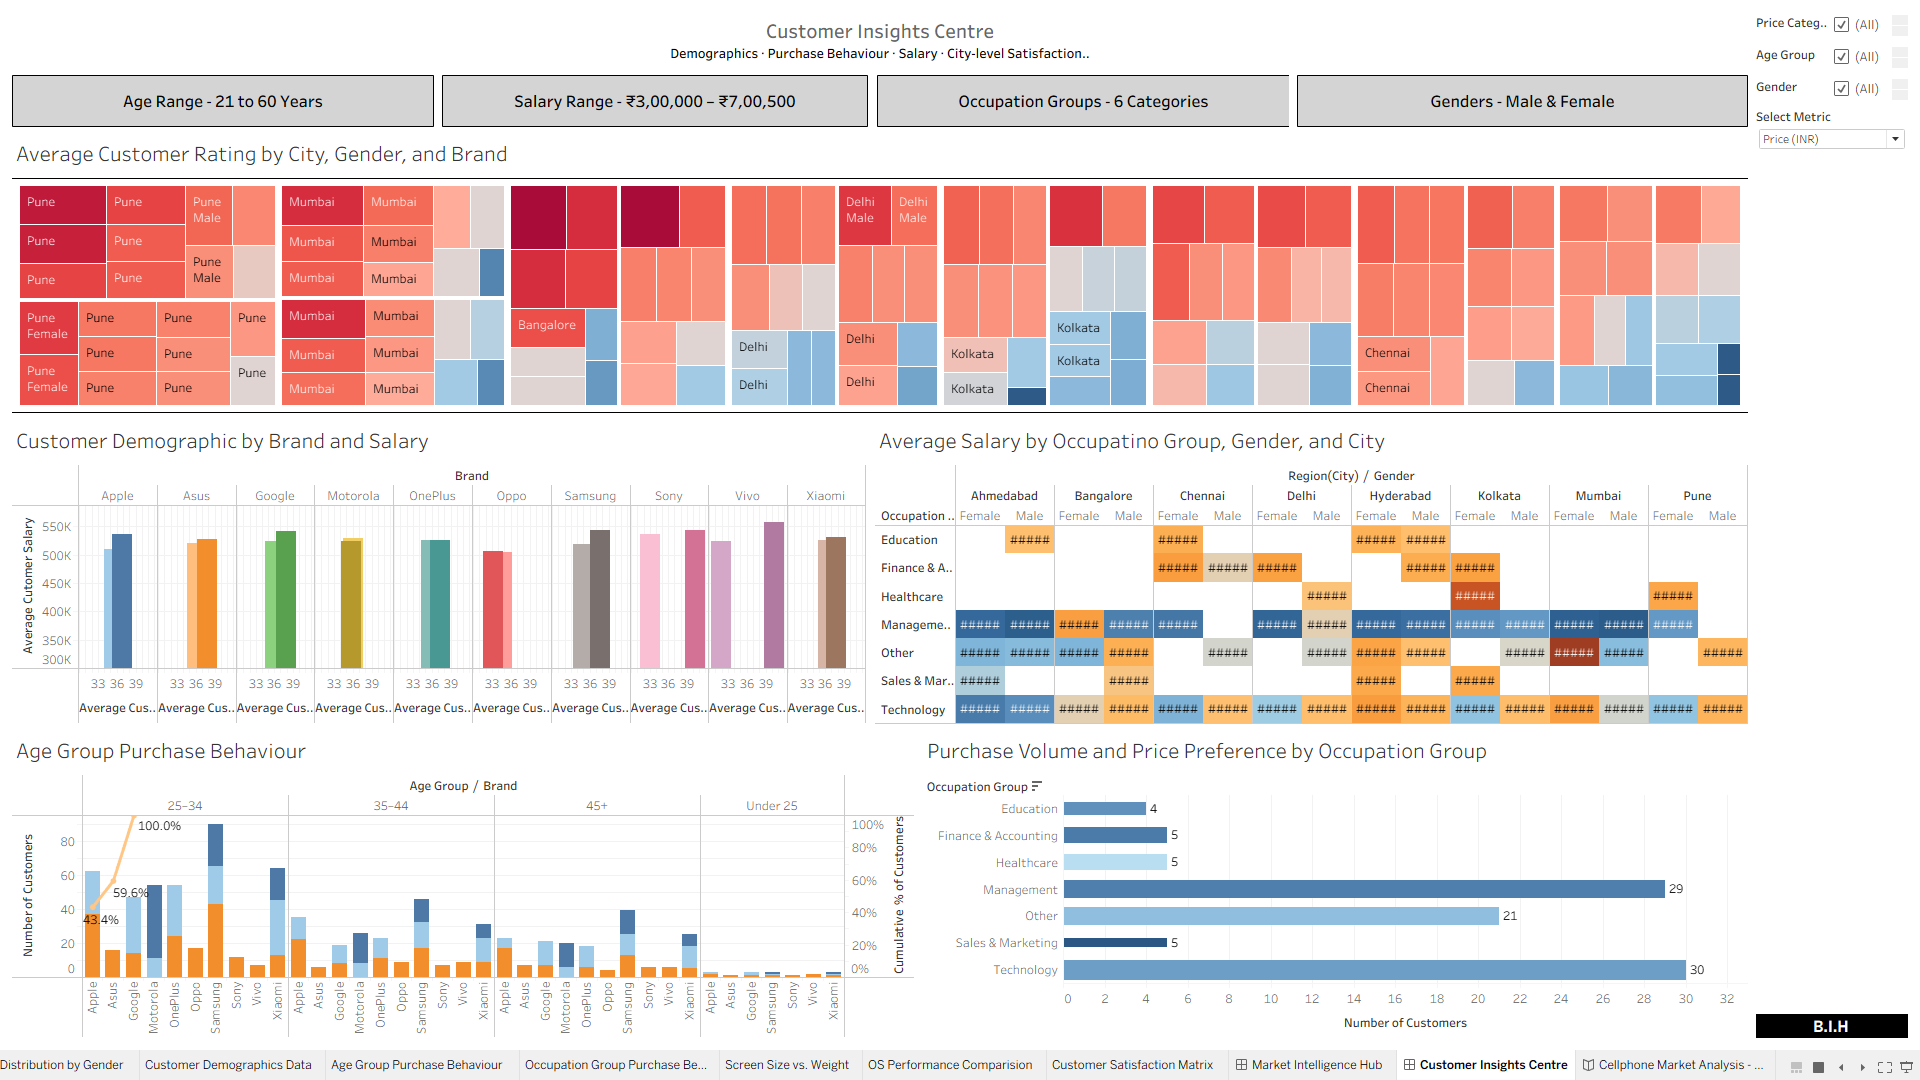

Layout of this report page (visuals, bound fields, positions):
{"tool":"tableau","page":{"name":"Customer Insights Centre","canvas":[1000,1000],"units":"permille","ordinal":0},"visuals":[{"type":"text","box":[3.8,6.5,915.9,55.6]},{"type":"filter","title":"City and Gender Rating Heatmap","param":"[federated.0lxe4e513q8cq216eywbx13yrfp5].[none:Calculation_0429849215541252:nk]","box":[919.7,6.5,76.5,61.8]},{"type":"text","box":[3.8,66.8,226.1,57]},{"type":"text","box":[229.9,66.8,228,57]},{"type":"text","box":[457.9,66.8,220.9,57]},{"type":"text","box":[678.8,66.8,241,57]},{"type":"filter","title":"Customer Demographics Data","param":"[federated.0lxe4e513q8cq216eywbx13yrfp5].[none:Calculation_0429849215623173:nk]","box":[919.7,68.2,76.5,61.8]},{"type":"worksheet","title":"City and Gender Rating Heatmap","mark":"Automatic","box":[3.8,123.7,915.9,274]},{"type":"filter","title":"Occupation Group Purchase Behaviour","param":"[federated.0lxe4e513q8cq216eywbx13yrfp5].[none:gender:nk]","box":[919.7,130,76.5,61.8]},{"type":"parameter","param":"[Parameters].[Parameter 1]","box":[919.7,191.8,76.5,759.9]},{"type":"worksheet","title":"Customer Demographics Data","mark":"Bar","rows":["Salary_in_INR"],"cols":["brand","age"],"box":[3.8,397.7,412.3,296.4]},{"type":"worksheet","title":"Salary Distribution by Gender","mark":"Square","rows":["Calculation_0429849351614482"],"cols":["Region(City)","gender"],"box":[416.1,397.7,503.5,296.4]},{"type":"worksheet","title":"Age Group Purchase Behaviour ","mark":"Automatic","rows":["user_id","user_id"],"cols":["Calculation_0429849215623173","brand"],"box":[3.8,694.1,478.5,299.4]},{"type":"worksheet","title":"Occupation Group Purchase Behaviour","mark":"Bar","rows":["Calculation_0429849351614482"],"cols":["user_id"],"box":[482.3,694.1,437.4,299.4]},{"type":"dashboard-object","box":[919.7,951.6,76.5,41.9]}]}

Visuals, with their boxes on the dashboard's canvas, which has no fixed pixel size, in thousandths of its width and height (x1, y1, x2, y2). These are canvas units, not pixel positions in the 1920x1080 screenshot, which may show the page scaled, cropped or inside an application window:
text: {"left": 4, "top": 6, "right": 920, "bottom": 62}
"City and Gender Rating Heatmap" filter: {"left": 920, "top": 6, "right": 996, "bottom": 68}
text: {"left": 4, "top": 67, "right": 230, "bottom": 124}
text: {"left": 230, "top": 67, "right": 458, "bottom": 124}
text: {"left": 458, "top": 67, "right": 679, "bottom": 124}
text: {"left": 679, "top": 67, "right": 920, "bottom": 124}
"Customer Demographics Data" filter: {"left": 920, "top": 68, "right": 996, "bottom": 130}
"City and Gender Rating Heatmap" worksheet: {"left": 4, "top": 124, "right": 920, "bottom": 398}
"Occupation Group Purchase Behaviour" filter: {"left": 920, "top": 130, "right": 996, "bottom": 192}
parameter: {"left": 920, "top": 192, "right": 996, "bottom": 952}
"Customer Demographics Data" worksheet (Bar marks): {"left": 4, "top": 398, "right": 416, "bottom": 694}
"Salary Distribution by Gender" worksheet (Square marks): {"left": 416, "top": 398, "right": 920, "bottom": 694}
"Age Group Purchase Behaviour " worksheet: {"left": 4, "top": 694, "right": 482, "bottom": 994}
"Occupation Group Purchase Behaviour" worksheet (Bar marks): {"left": 482, "top": 694, "right": 920, "bottom": 994}
dashboard-object: {"left": 920, "top": 952, "right": 996, "bottom": 994}
